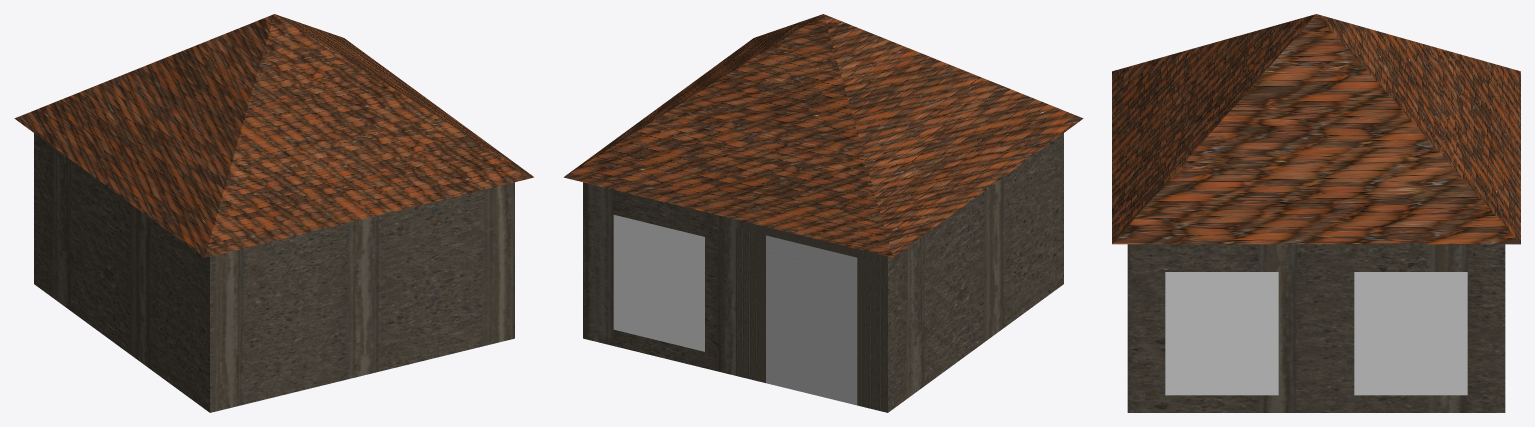
File: houseWithRoof.fbx
3 renders of one model, left to right at view 1: azimuth 30°, elevation 25°; view 2: azimuth 150°, elevation 25°; view 3: azimuth 270°, elevation 25°, orthographic. The views are drawn at different scales.
Visible parts, largest first — view 1: house, roof1; view 2: house, roof1; view 3: roof1, house.
Part boxes in pixels (x1=…): house: x1=34, y1=133, x2=514, y2=412; roof1: x1=14, y1=14, x2=534, y2=257; house: x1=583, y1=133, x2=1063, y2=412; roof1: x1=563, y1=14, x2=1083, y2=257; roof1: x1=1112, y1=14, x2=1520, y2=244; house: x1=1127, y1=244, x2=1505, y2=412.
Bounding box in the file's own units: 11.11 × 9.56 × 11.11.
